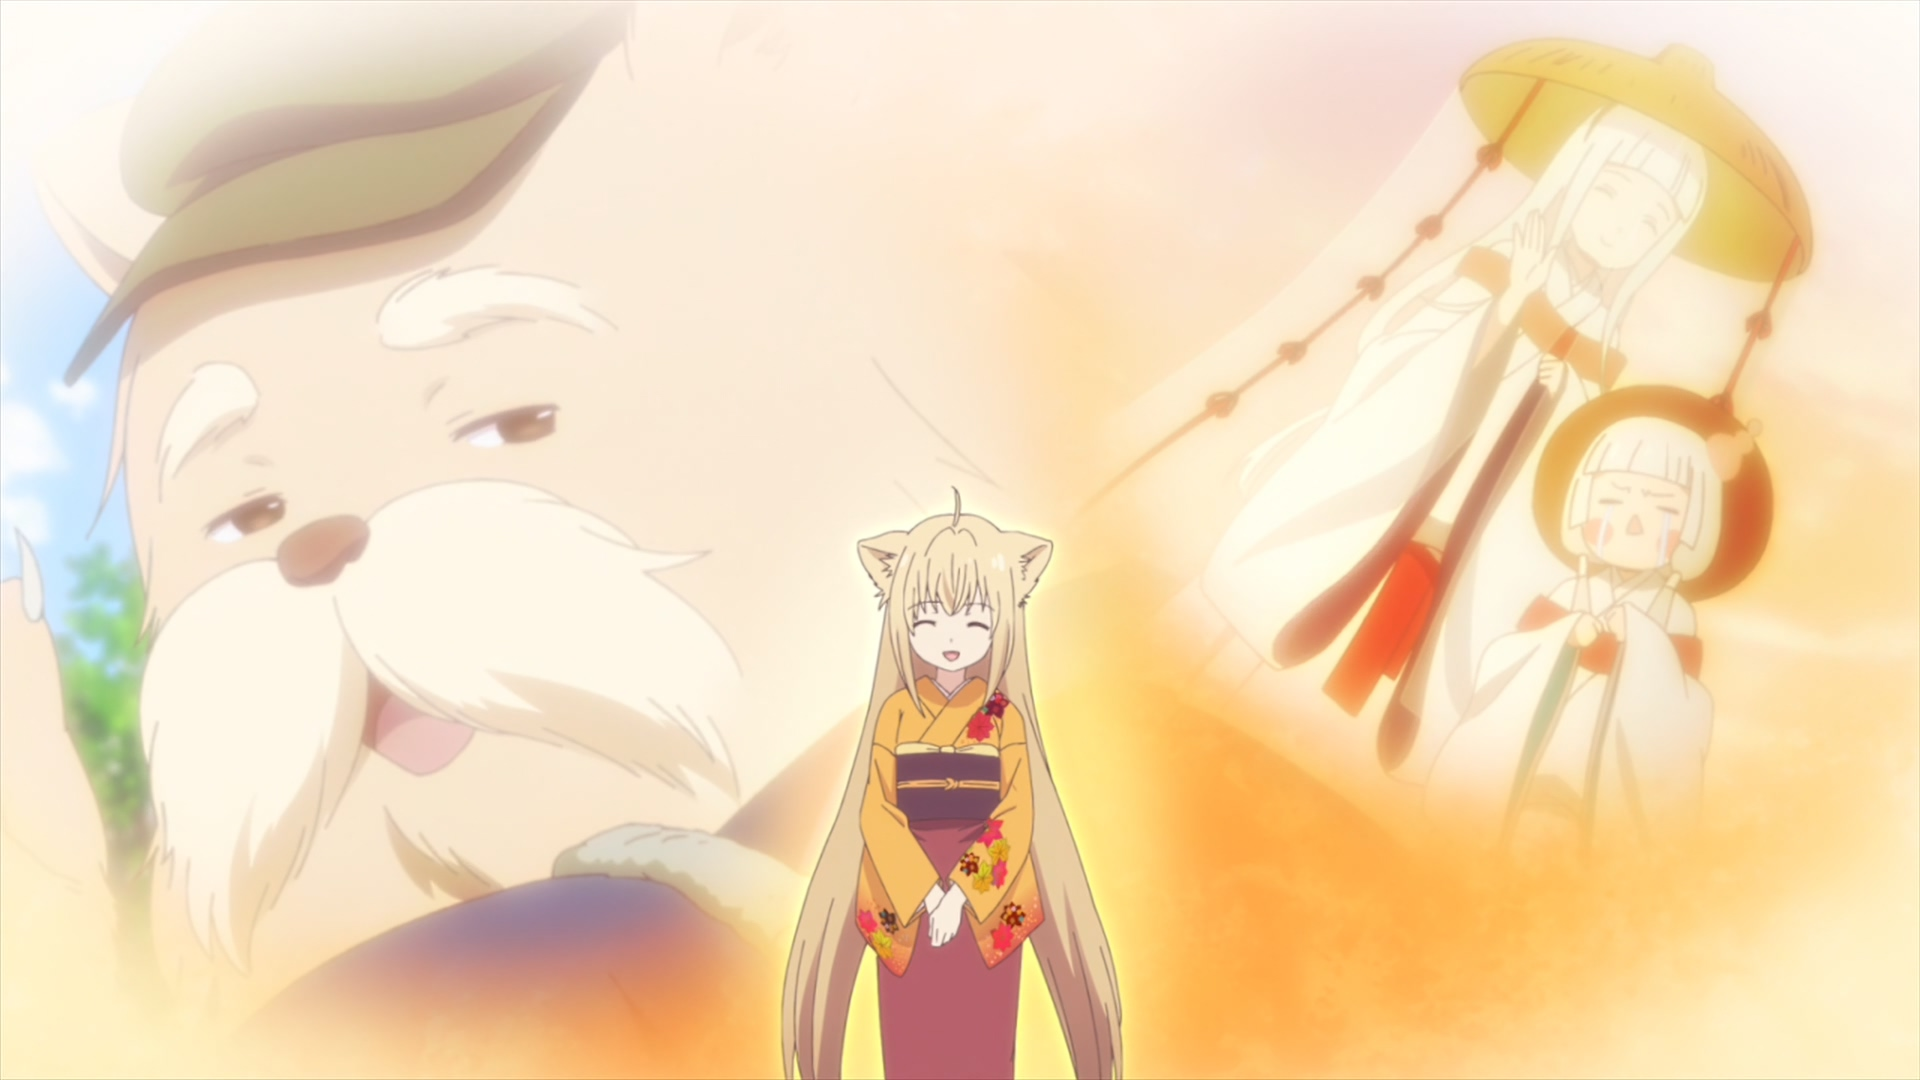其他: (1087, 40, 1813, 869), (1418, 386, 1776, 874)
柚: (778, 487, 1124, 1080)
药店老板: (1, 1, 1011, 1007)
